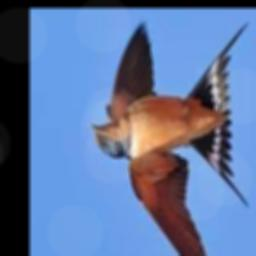Swallow: (87, 22, 249, 256)
